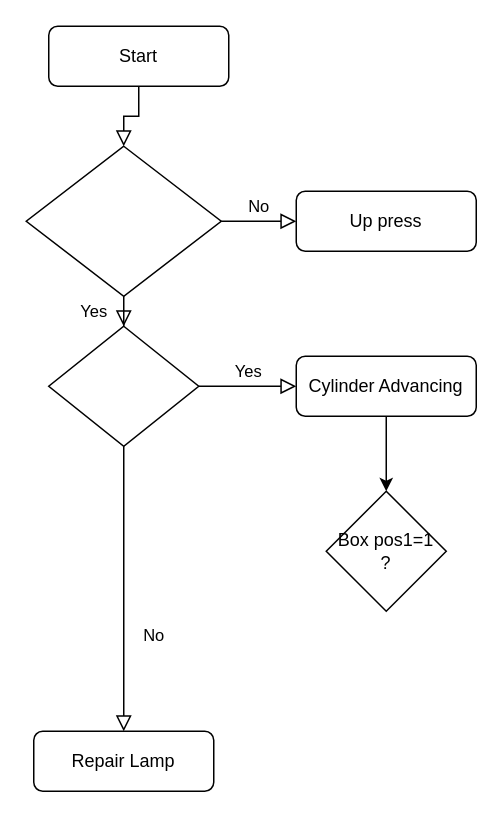
Image size: 503x818. Some labels were removed from this diagram. Here are the shapes that lost their labels. From the top down, the centre of each, then its label:
the point at 123,220: upLimit press=1 ?
the point at 123,385: Box presence
